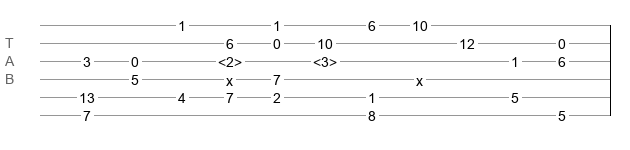0: (131, 54, 139, 64), (273, 36, 281, 46), (558, 36, 566, 46)
1: (178, 18, 186, 28), (273, 18, 281, 28), (368, 90, 376, 100), (511, 54, 519, 64)
10: (317, 36, 333, 46), (412, 18, 428, 28)
12: (459, 36, 475, 46)
13: (79, 90, 95, 100)
2: (273, 90, 281, 100)
3: (83, 54, 91, 64)
4: (178, 90, 186, 100)
5: (131, 72, 139, 82), (511, 90, 519, 100), (558, 108, 566, 118)
6: (226, 36, 234, 46), (368, 18, 376, 28), (558, 54, 566, 64)
7: (83, 108, 91, 118), (226, 90, 234, 100), (273, 72, 281, 82)
8: (368, 108, 376, 118)
harmonic: (218, 54, 242, 64), (313, 54, 337, 64)
x: (226, 73, 233, 81), (416, 73, 423, 81)
